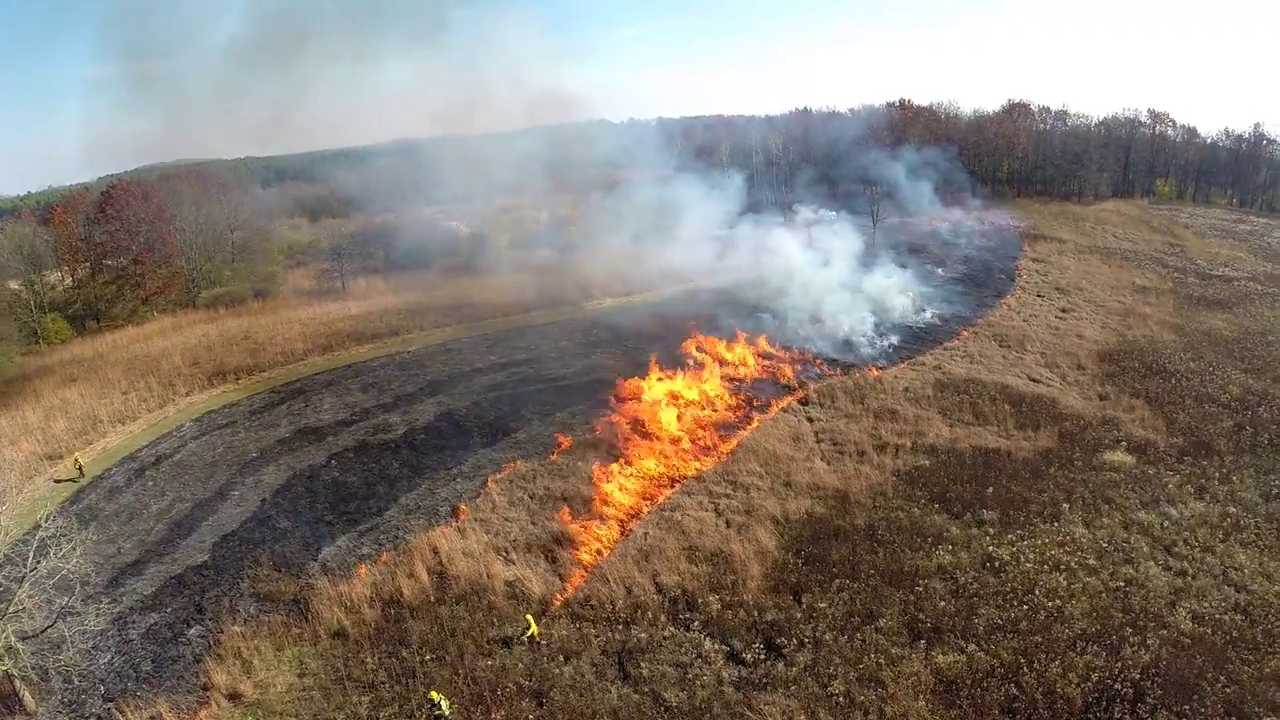forest_fire: (553, 331, 825, 605), (552, 435, 572, 458)
